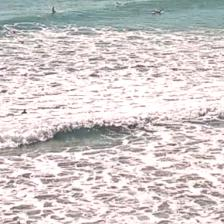surfer: (151, 9, 163, 15), (50, 7, 57, 14)
